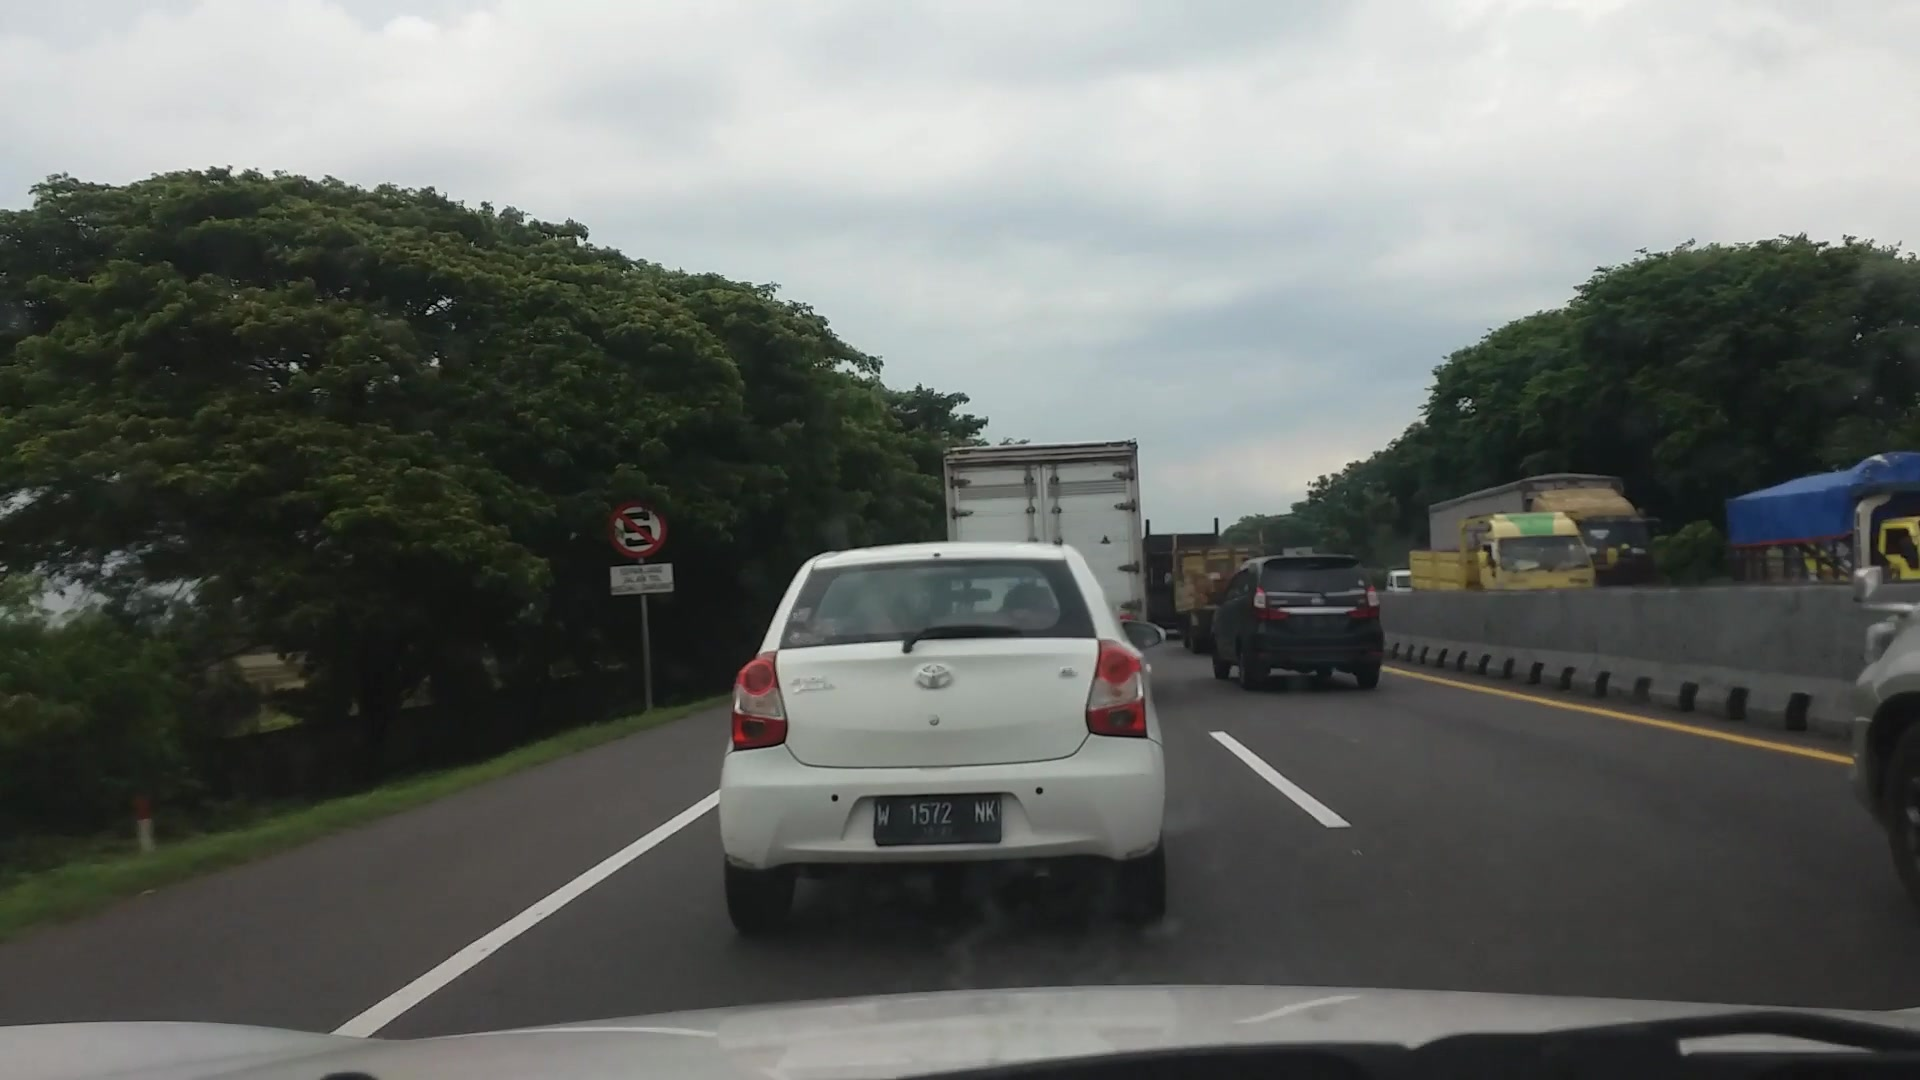plate_positive: (874, 793, 1002, 847)
